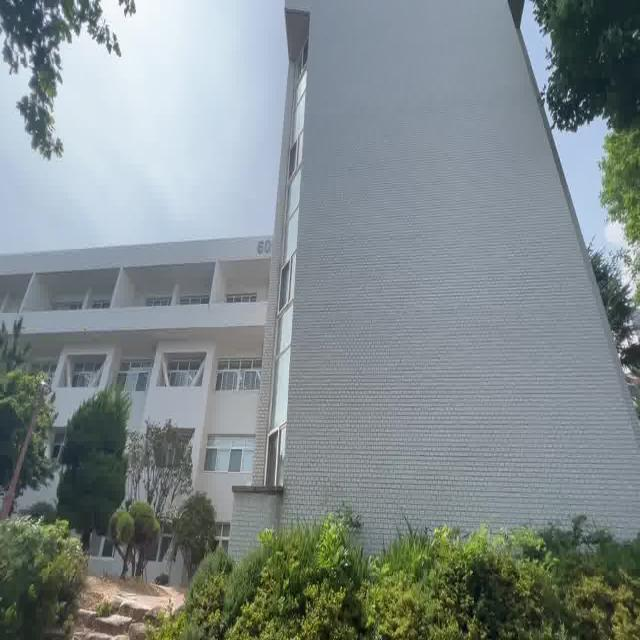building: (157, 0, 534, 534)
